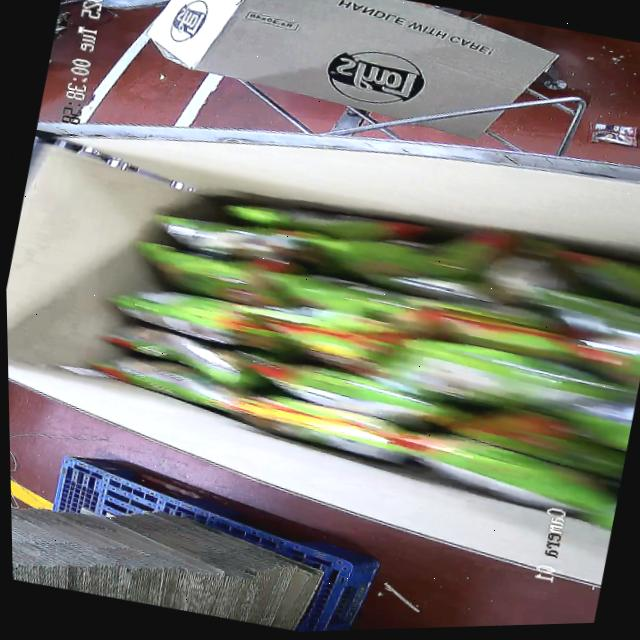YOGURT_HERB: (68, 145, 640, 540)
